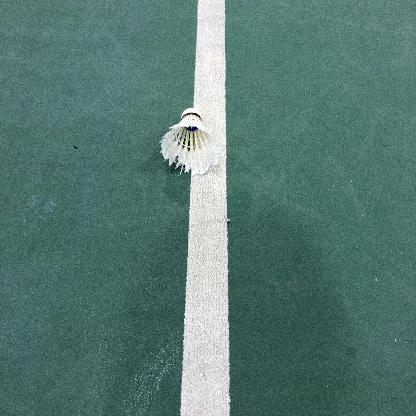ball_single: (161, 108, 219, 174)
